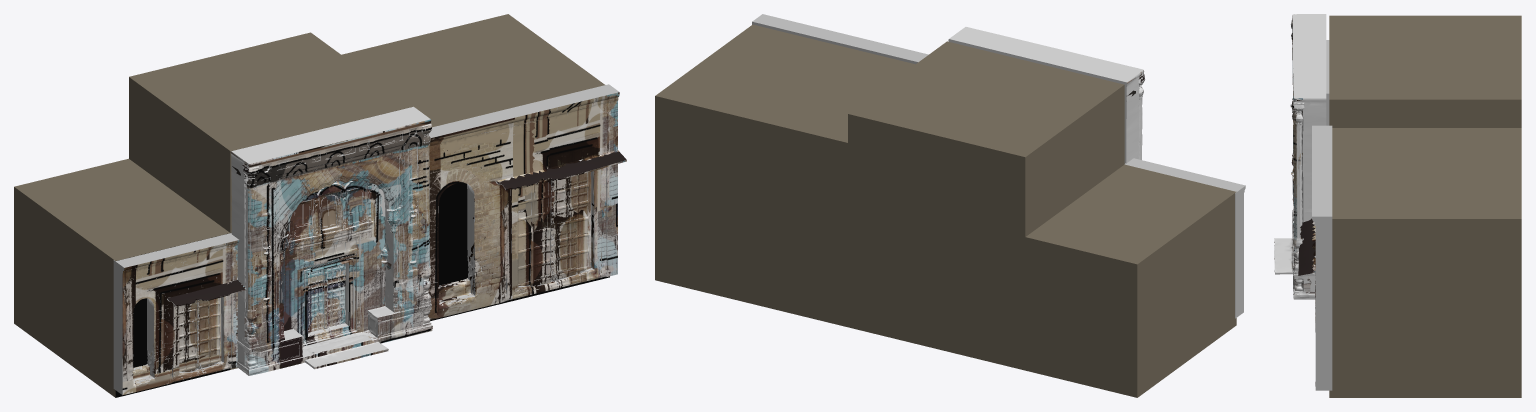
3 renders of one model, left to right at view 1: azimuth 30°, elevation 25°; view 2: azimuth 150°, elevation 25°; view 3: azimuth 270°, elevation 25°, orthographic. The views are drawn at different scales.
Parts seen in each view (by area): view 1: Aset_building__M_wmcqbapdw_00_LOD0.001, Cube; view 2: Cube, Aset_building__M_wmcqbapdw_00_LOD0.001; view 3: Cube, Aset_building__M_wmcqbapdw_00_LOD0.001.
Boxes of the visible parts, x1,y1,x2,y2 form: Aset_building__M_wmcqbapdw_00_LOD0.001: (113,84,626,395); Cube: (14,14,609,397); Cube: (655,24,1236,397); Aset_building__M_wmcqbapdw_00_LOD0.001: (752,14,1245,318); Cube: (1329,15,1521,397); Aset_building__M_wmcqbapdw_00_LOD0.001: (1274,14,1332,390).
Bounding box in the file's own units: 1711 × 727 × 782.
